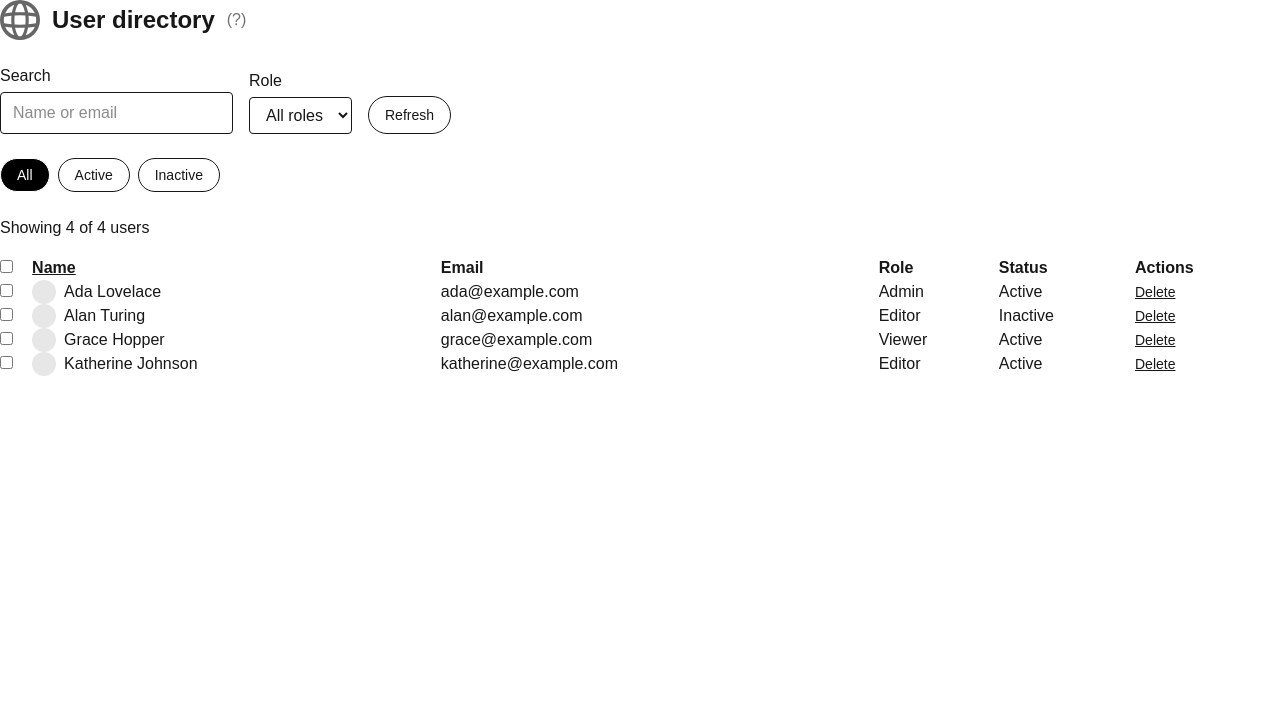
delete flow › removes the row and announces the result on confirm
Click the button with aria-label "Delete Ada Lovelace" at (1155, 292), box [1135, 282, 1176, 302]
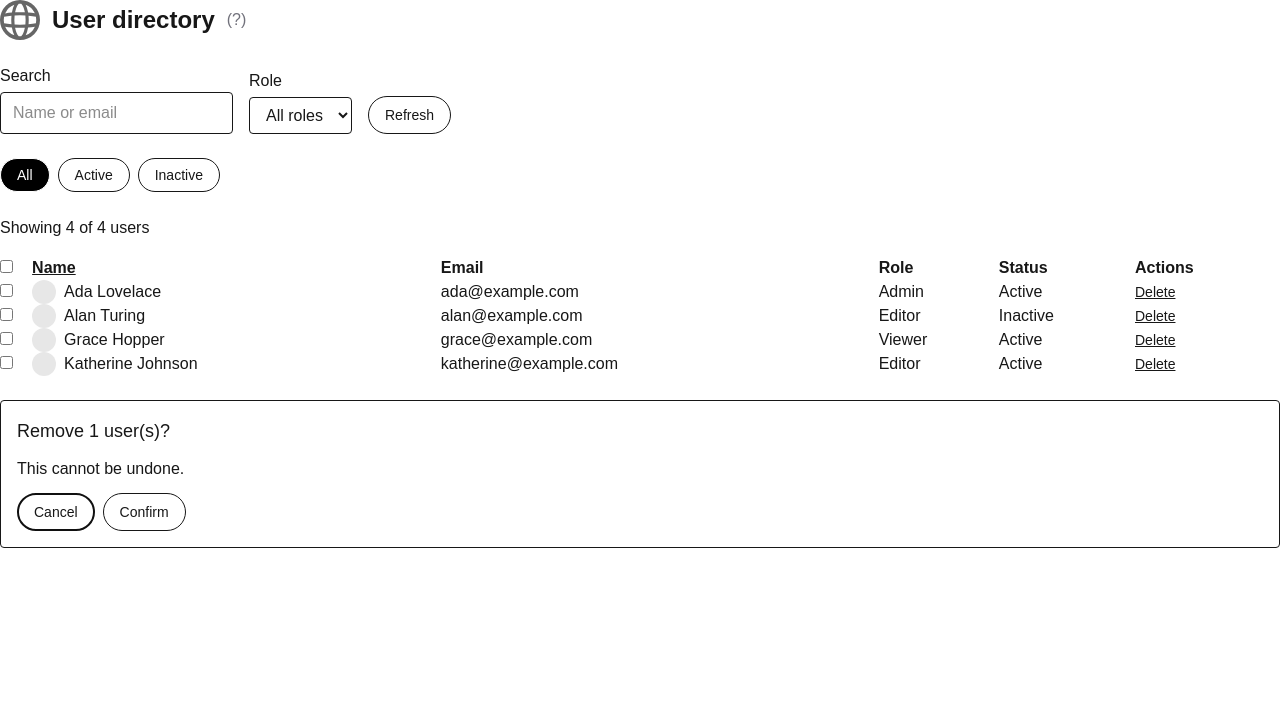
Click the button "Confirm" at (144, 512), box [103, 493, 186, 531]
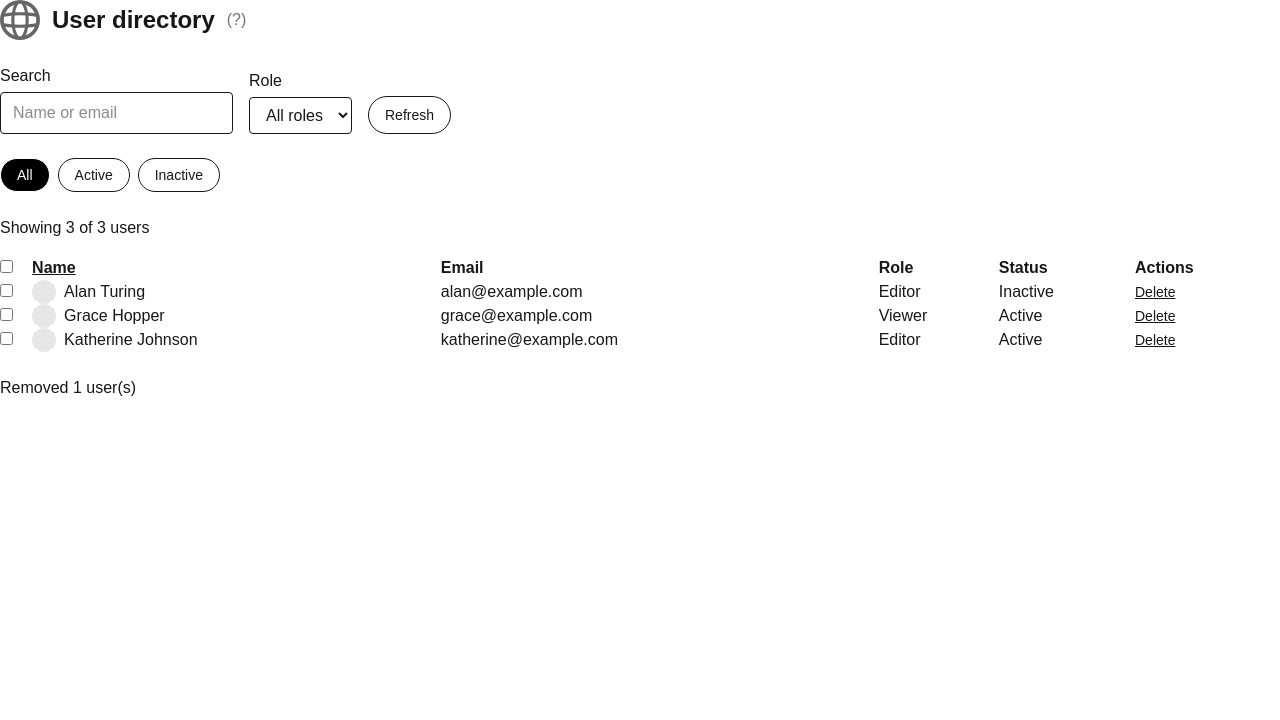
Expected: the dialog is gone
Expected: the message reads "Removed 1 user(s)", [0, 379, 136, 396]
Expected: the text with test id "result-summary" reads "Showing 3 of 3 users", [0, 216, 150, 240]
